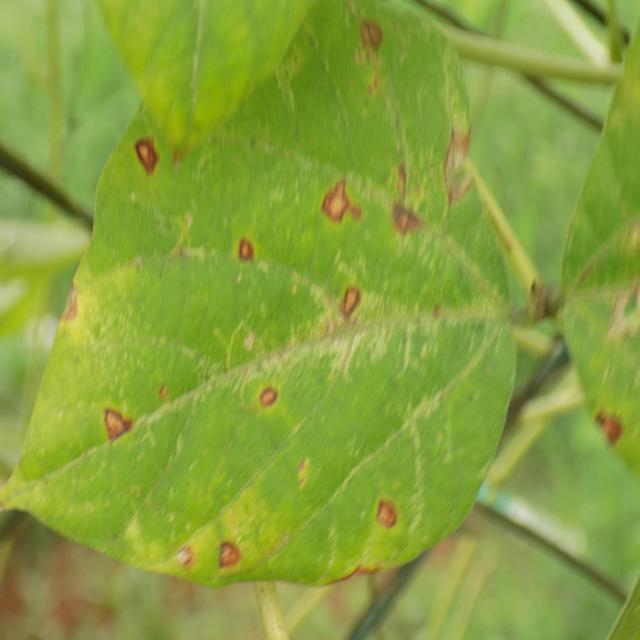Dolicos bean_cercospora leaf spot: (0, 0, 517, 585)
